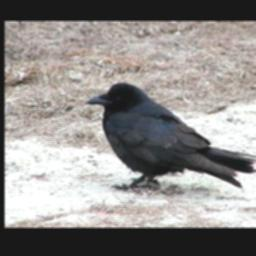Crow: (87, 81, 256, 191)
